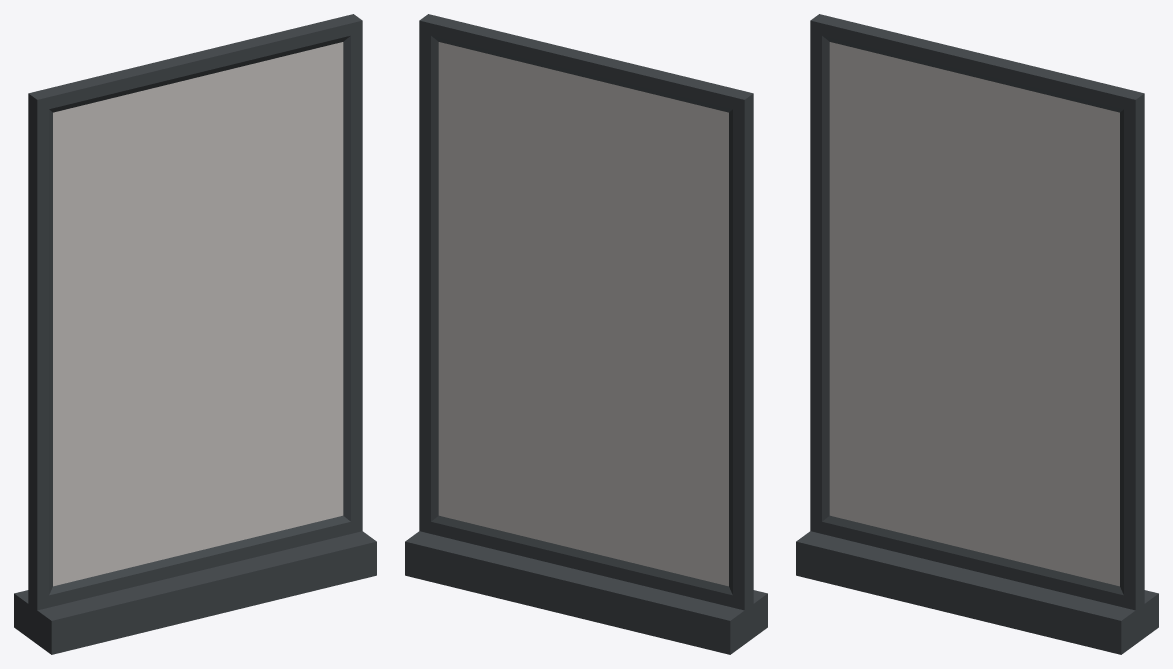
Rendered from sign1.glb.
The picture shows the model from 3 angles, left to right: view 1: azimuth 30°, elevation 25°; view 2: azimuth 150°, elevation 25°; view 3: azimuth 330°, elevation 25°; orthographic projection.
Visible parts, largest first — view 1: ExhibitPanel; view 2: ExhibitPanel; view 3: ExhibitPanel.
Part boxes in pixels (x1,y1,x2,y2): ExhibitPanel: [14, 14, 376, 654]; ExhibitPanel: [405, 14, 767, 654]; ExhibitPanel: [796, 14, 1158, 654].
Size of the model in its own units: 1 by 1.6 by 0.2.
1 material, 1 textured.
